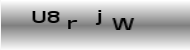8: (47, 10, 61, 23)
U: (30, 9, 47, 24)
W: (112, 16, 134, 31)
j: (94, 8, 103, 26)
r: (66, 18, 77, 30)
